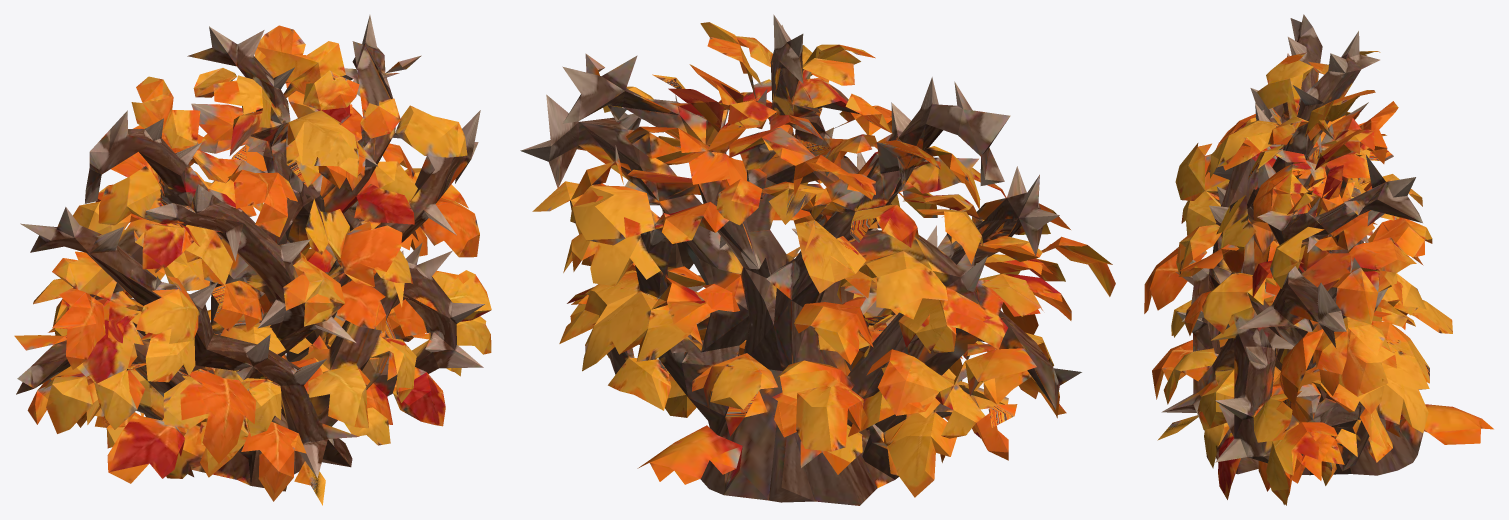
The model's file is thorn-bush.hq.glb.
The picture shows the model from 3 angles, left to right: view 1: azimuth 30°, elevation 25°; view 2: azimuth 150°, elevation 25°; view 3: azimuth 270°, elevation 25°; orthographic projection. The views are drawn at different scales.
Visible parts, largest first — view 1: output_unwrapped; view 2: output_unwrapped; view 3: output_unwrapped.
Part boxes in pixels (x1=…): output_unwrapped: x1=14, y1=15, x2=491, y2=505; output_unwrapped: x1=520, y1=14, x2=1115, y2=505; output_unwrapped: x1=1144, y1=14, x2=1493, y2=505.
Bounding box in the file's own units: 1.9 × 1.52 × 1.2.
1 material, 1 textured.
